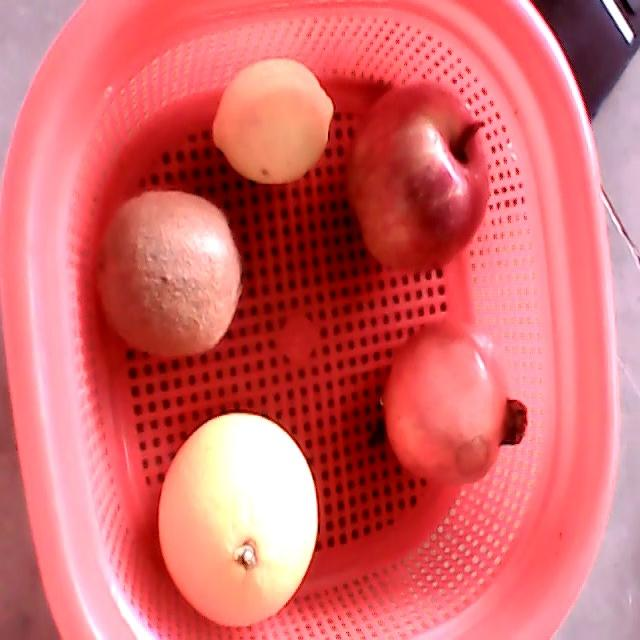apple: (343, 81, 491, 274)
kiwi: (93, 189, 243, 358)
lemon: (210, 58, 336, 184)
orange: (158, 414, 318, 628)
pomegranate: (381, 314, 528, 488)
